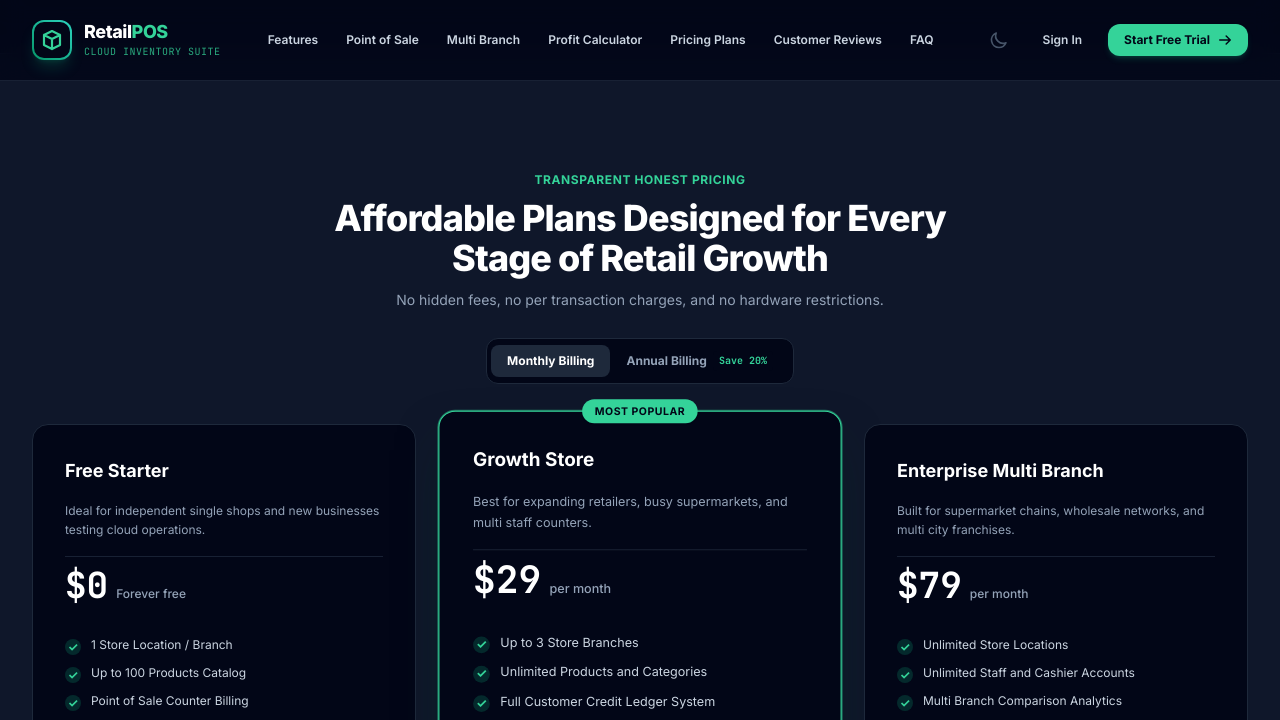
Test: LandingPage Component and SEO › toggles pricing billing cycle and recalculates discount
(page scrolled)
expect the text "$29" is shown: met, box top-left (473, 554), bottom-right (541, 604)
Note: Toggle to Annual billing
What coordinates should you click on to do the following:
click the button "Annual Billing Save 20%"
I would click on:
 (700, 360)
Its box is top-left (610, 342), bottom-right (789, 378).
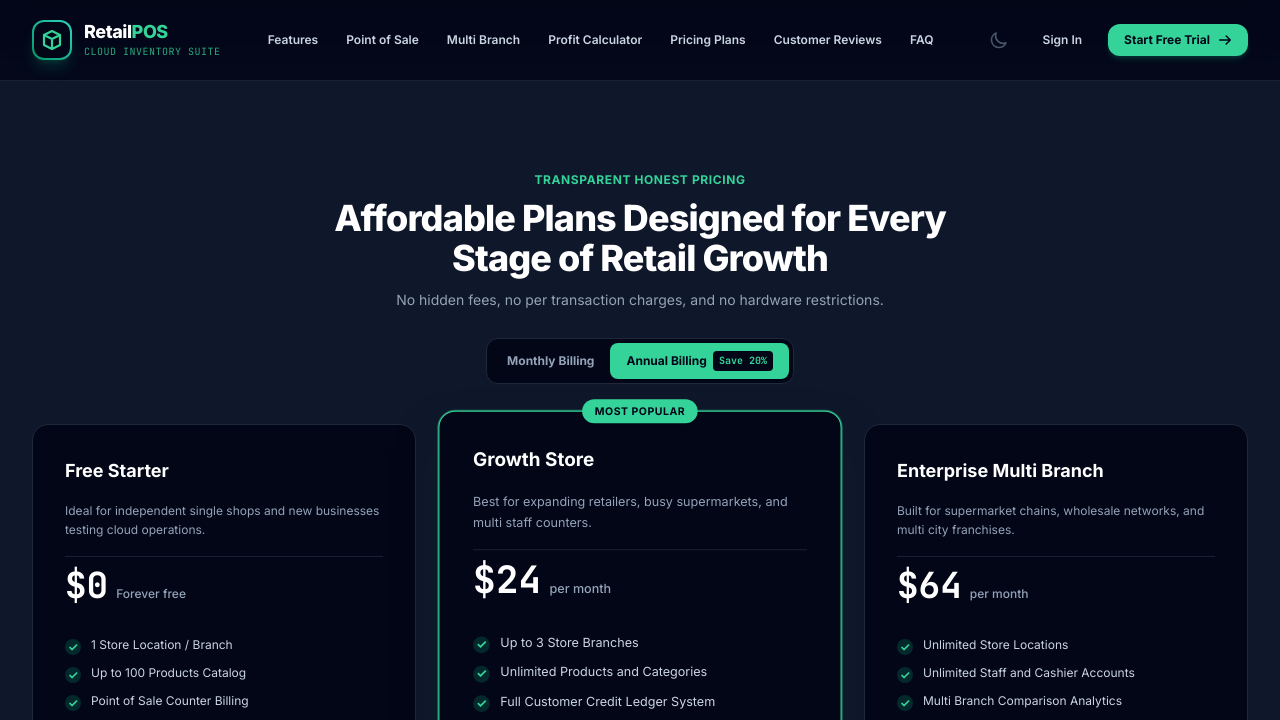
expect the text "$24" is shown: met, box top-left (473, 554), bottom-right (541, 604)
